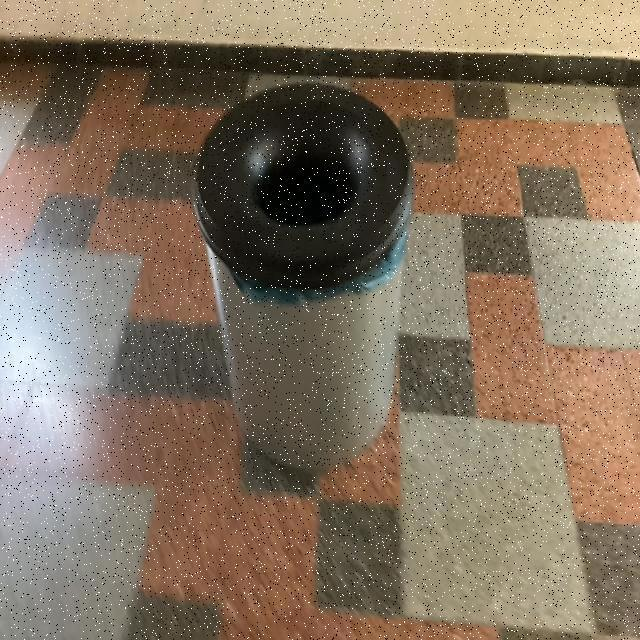garbage container: (136, 53, 452, 511)
